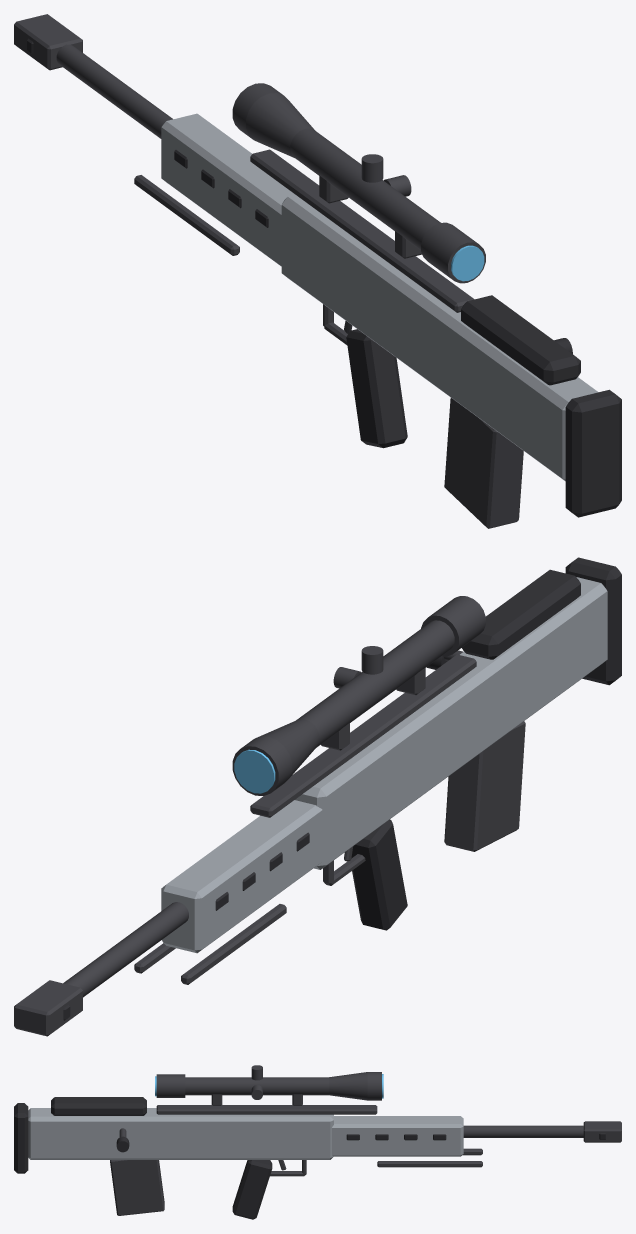
Rendered from Vanta.fbx.
3 renders of one model, top to bottom at view 1: azimuth 30°, elevation 25°; view 2: azimuth 150°, elevation 25°; view 3: azimuth 270°, elevation 25°, orthographic. The views are drawn at different scales.
Visible parts, largest first — view 1: Vanta; view 2: Vanta; view 3: Vanta.
Boxes of the visible parts, x1,y1,x2,y2 form: Vanta: (14, 14, 621, 528); Vanta: (14, 557, 621, 1036); Vanta: (14, 1065, 621, 1219).
Size of the model in its own units: 0.124 by 0.344 by 1.27.
